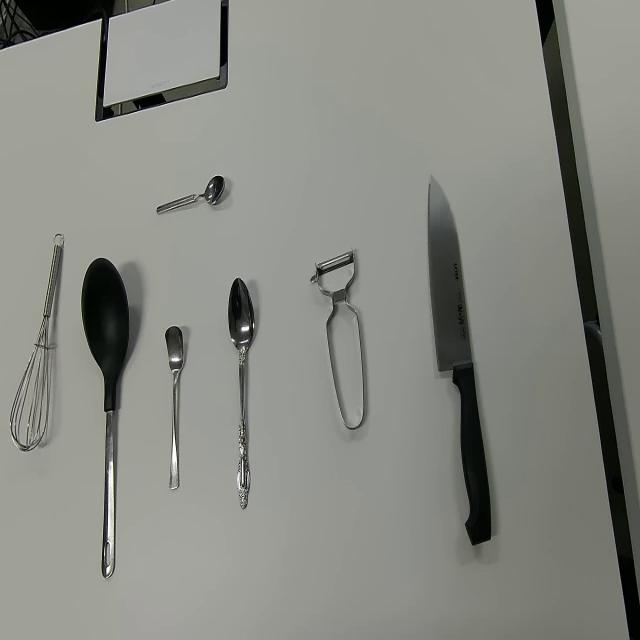Desert-Spoon: (227, 276, 256, 509)
Kitchen-Knife: (427, 172, 493, 548)
Peeler: (310, 245, 364, 429)
Serving-Spoon: (80, 256, 130, 580)
Tea-Spoon: (164, 325, 184, 491), (156, 174, 226, 217)
Whisk: (9, 232, 64, 453)
